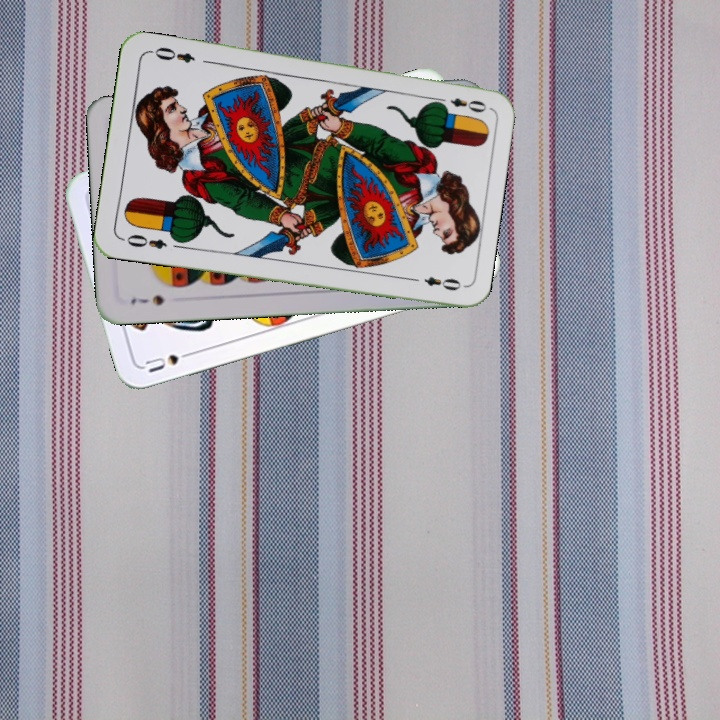EO: (431, 93, 489, 115), (118, 230, 170, 252)
S7: (127, 291, 167, 308)
SU: (141, 346, 198, 376)
